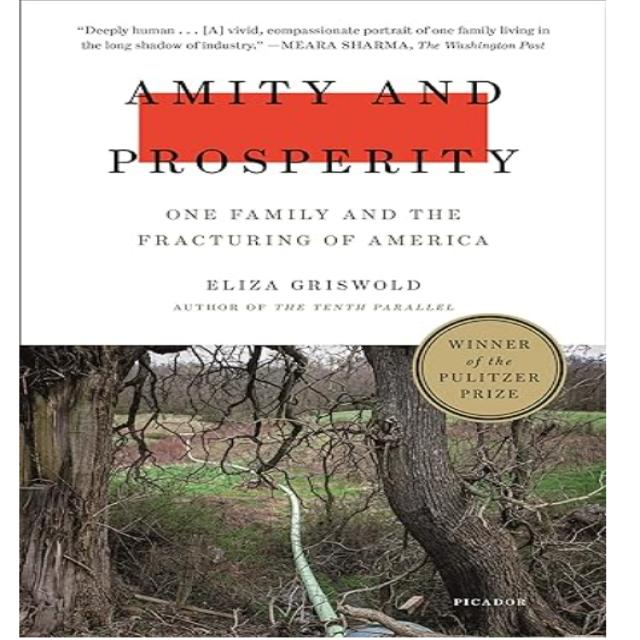titles-or-authors: (94, 67, 546, 188), (193, 268, 427, 296)
